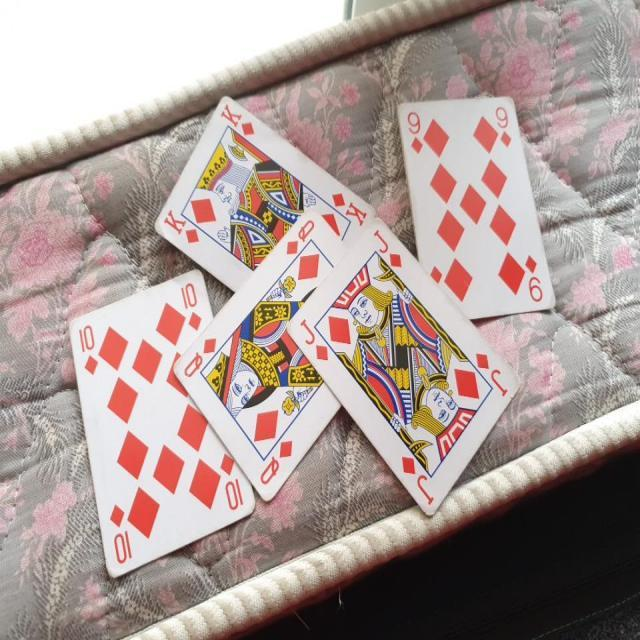10 of diamonds: (66, 262, 256, 576)
9 of diamonds: (396, 93, 558, 314)
jack of diamonds: (282, 215, 523, 518)
king of diamonds: (153, 94, 376, 294)
queen of diamonds: (172, 210, 350, 504)
